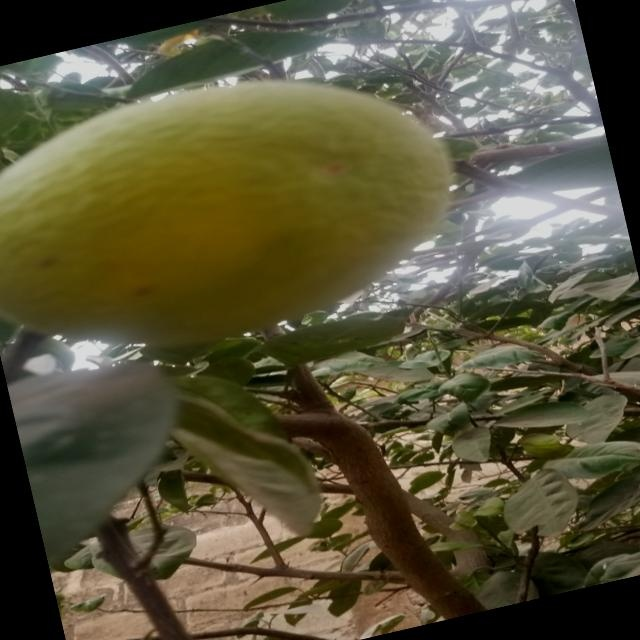agrume: (0, 26, 490, 399)
